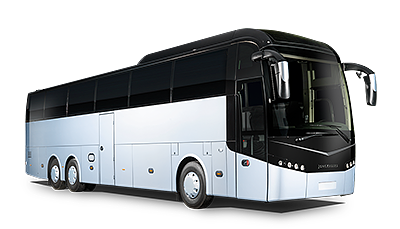bus: (24, 27, 357, 208)
